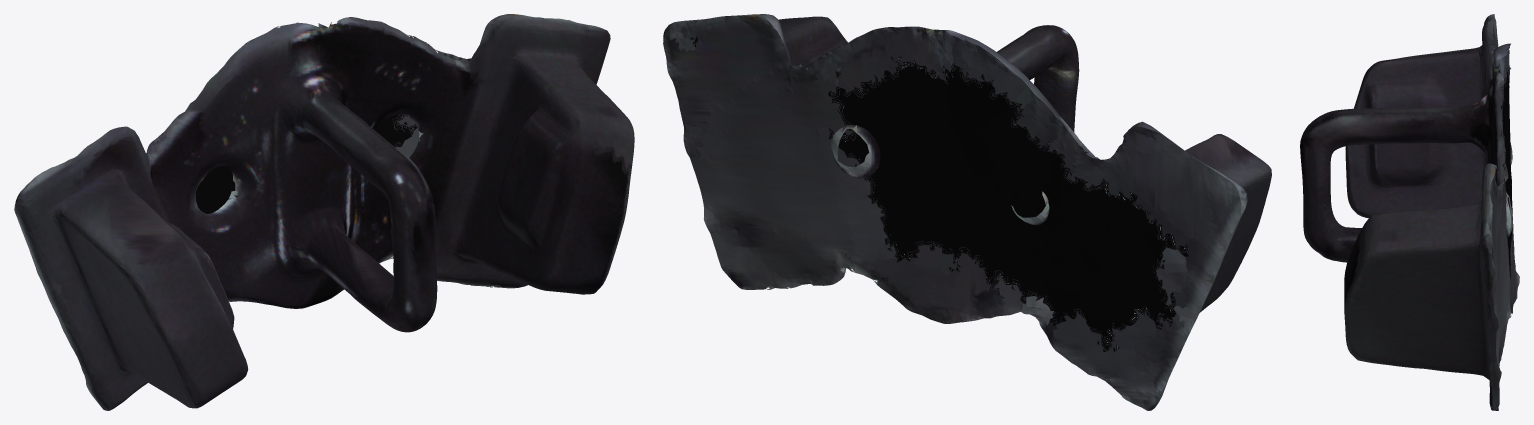
Rendered from QR0003_rotate.obj.
The picture shows the model from 3 angles, left to right: view 1: azimuth 30°, elevation 25°; view 2: azimuth 150°, elevation 25°; view 3: azimuth 270°, elevation 25°; orthographic projection. The views are drawn at different scales.
Visible parts, largest first — view 1: q004; view 2: q004; view 3: q004.
Boxes of the visible parts, x1=… form: q004: x1=14, y1=14, x2=634, y2=410; q004: x1=663, y1=14, x2=1271, y2=410; q004: x1=1300, y1=14, x2=1519, y2=410.
Size of the model in its own units: 120 by 65.12 by 45.49.
Materials: 1 (1 with a texture image).
